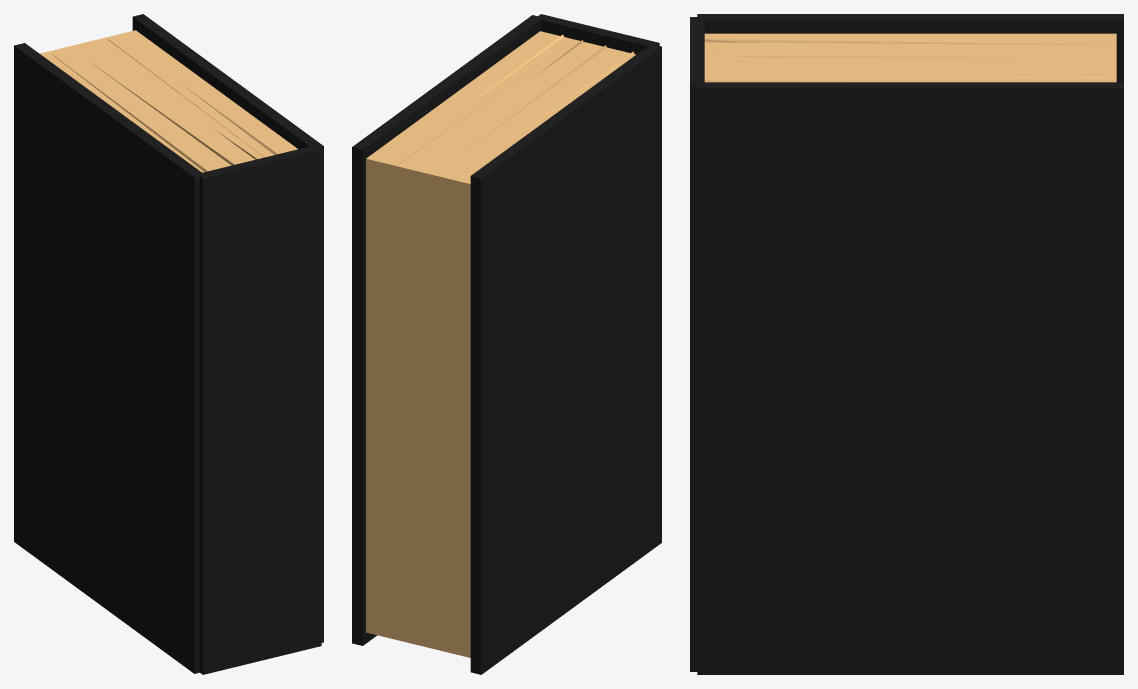
File: darkBook.glb
The picture shows the model from 3 angles, left to right: view 1: azimuth 30°, elevation 25°; view 2: azimuth 150°, elevation 25°; view 3: azimuth 270°, elevation 25°; orthographic projection. The views are drawn at different scales.
Visible parts, largest first — view 1: group453196978, group764487084, group1732650196, group1485198180; view 2: group453196978, group1732650196, group1485198180, group764487084, group833298882; view 3: group1485198180, group1732650196, group453196978, group764487084, group833298882, group1151146375.
Boxes of the visible parts, left/top/right/bottom form: group453196978: left=14, top=43, right=201, bottom=673; group764487084: left=197, top=145, right=321, bottom=674; group1732650196: left=40, top=30, right=297, bottom=172; group1485198180: left=132, top=14, right=323, bottom=642; group453196978: left=470, top=45, right=661, bottom=674; group1732650196: left=366, top=31, right=635, bottom=657; group1485198180: left=352, top=15, right=540, bottom=645; group764487084: left=535, top=14, right=659, bottom=54; group833298882: left=458, top=51, right=634, bottom=176; group1485198180: left=697, top=82, right=1123, bottom=674; group1732650196: left=704, top=33, right=1116, bottom=82; group453196978: left=697, top=14, right=1123, bottom=82; group764487084: left=690, top=17, right=704, bottom=671; group833298882: left=704, top=39, right=1107, bottom=45; group1151146375: left=704, top=55, right=1064, bottom=58.
Size of the model in its own units: 0.12 by 0.44 by 0.295.
